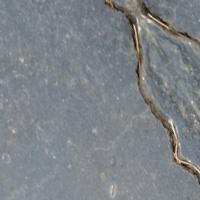crack: (105, 1, 199, 197)
